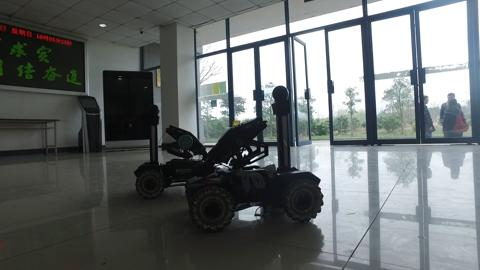chariot: (189, 84, 324, 227), (133, 102, 212, 196)
